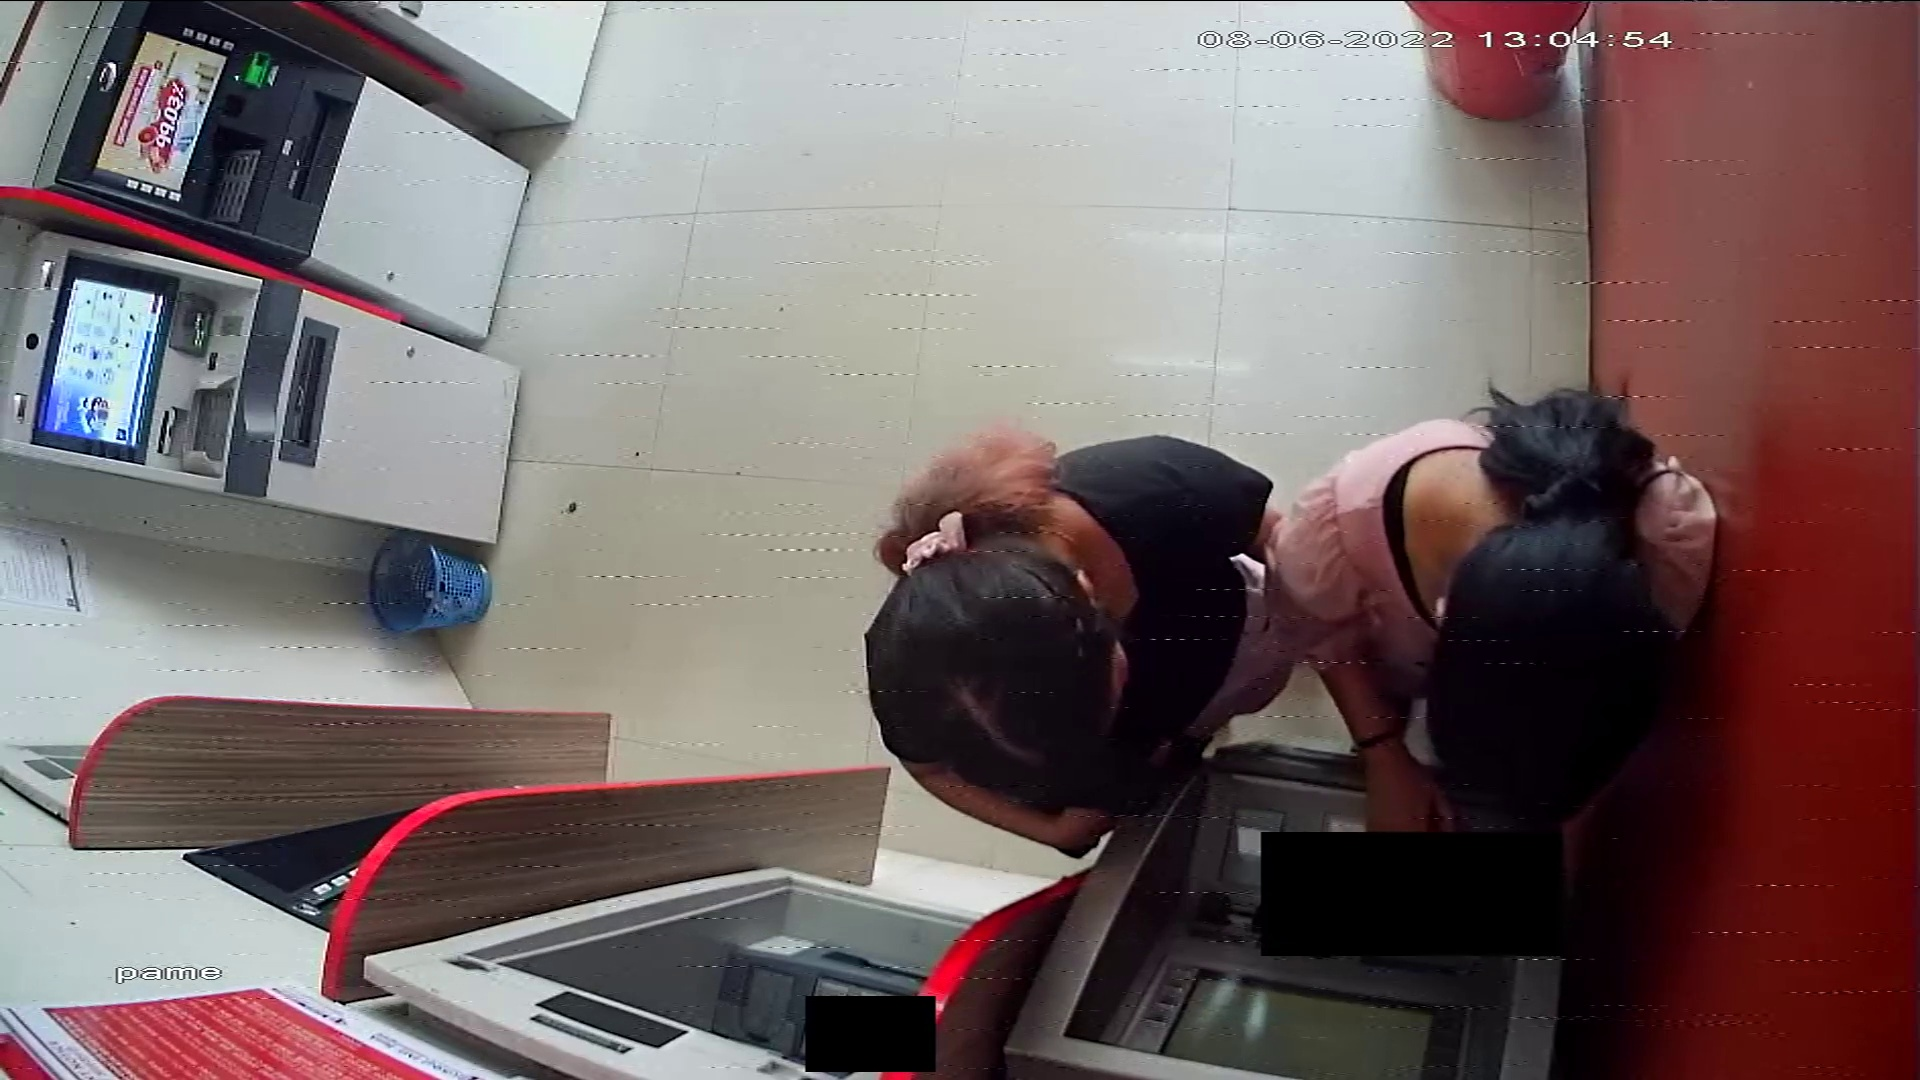person: (1266, 400, 1721, 843), (861, 430, 1313, 859)
